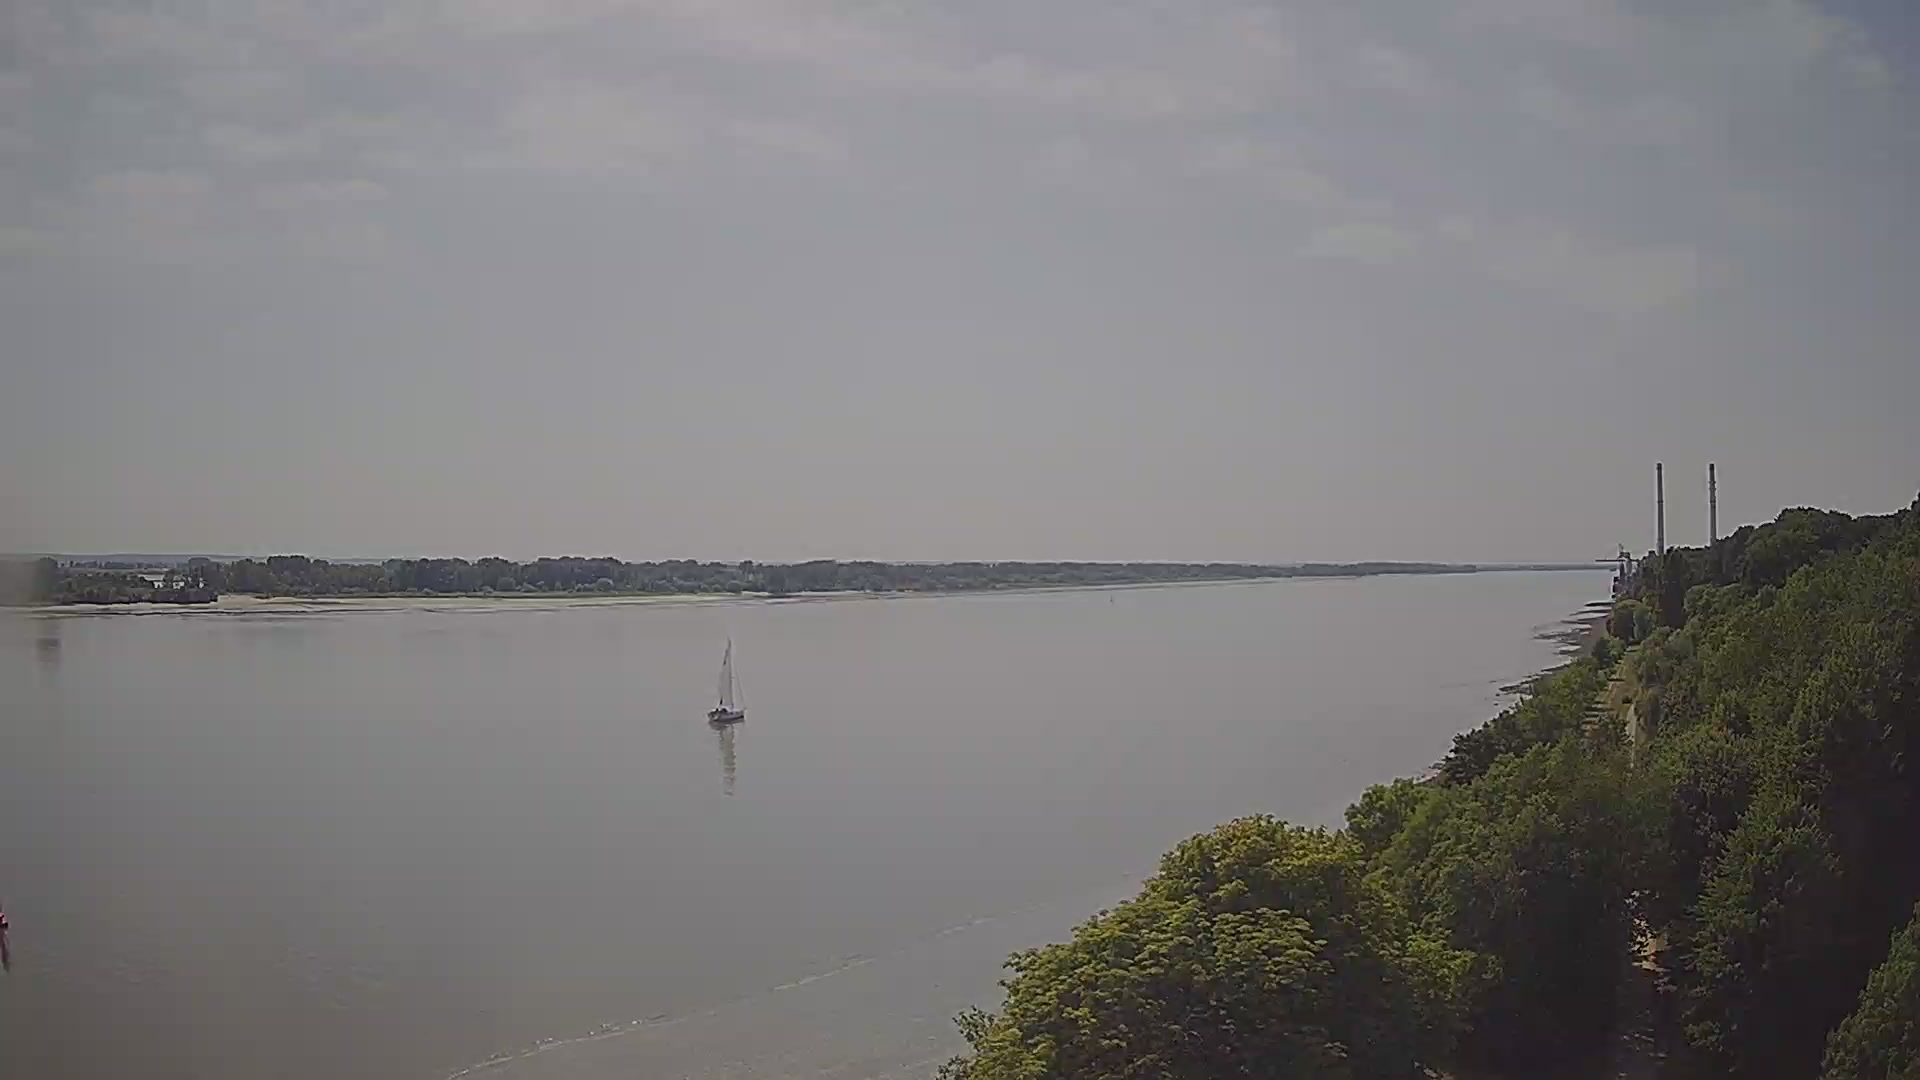sea: (705, 637, 746, 724)
